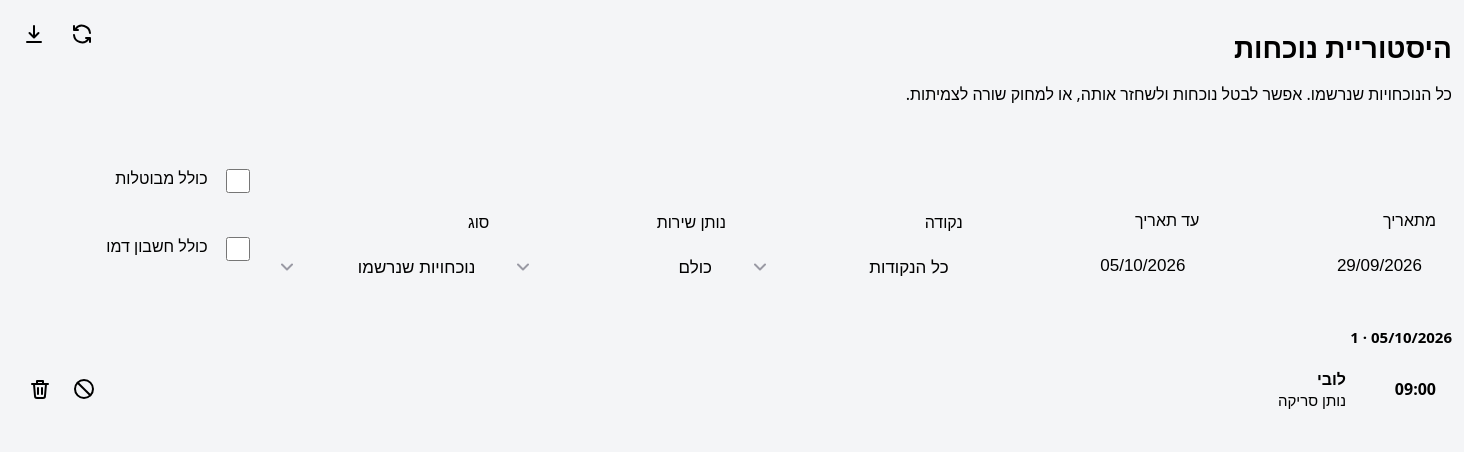
Test: paging the visits that were not counted › does not draw the same visit twice when two pages overlap
Expected: the text "נותן סריקה" is shown, [1278,390,1346,410]
Select "לא נקלטו" in the dropdown labelled "סוג": coordinates (377, 267) [265,241,489,293]
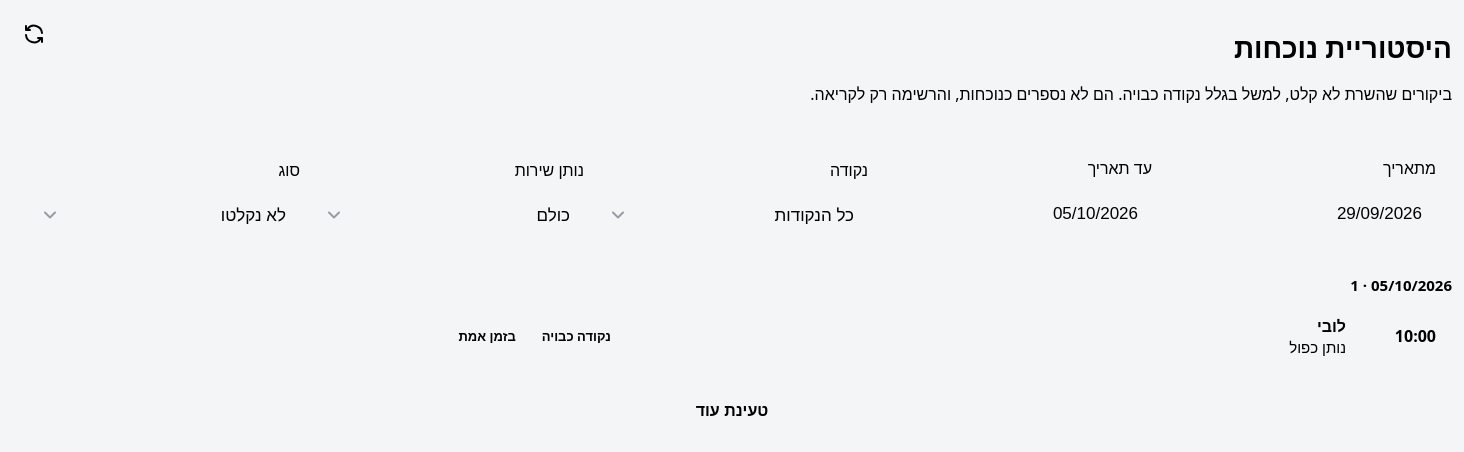
Expected: the text "נותן כפול" is shown, [1289,337,1346,357]
Click the button "טעינת עוד": coordinates (732, 411) [678,387,786,435]
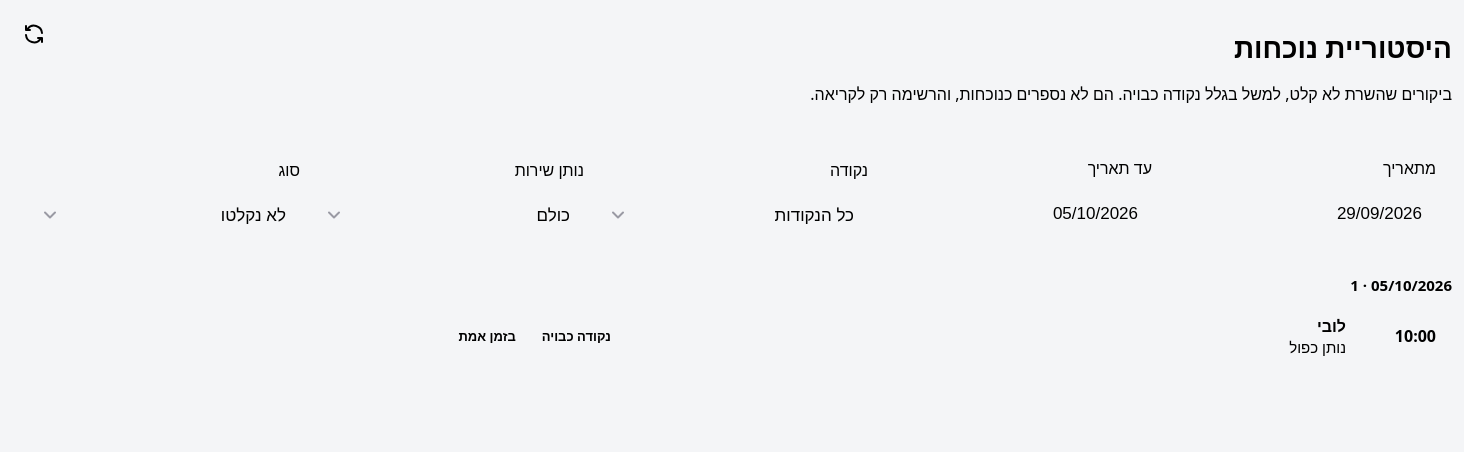
Expected: the text "נותן כפול" is shown once, [1289,337,1346,357]
Expected: the button "טעינת עוד" is gone
